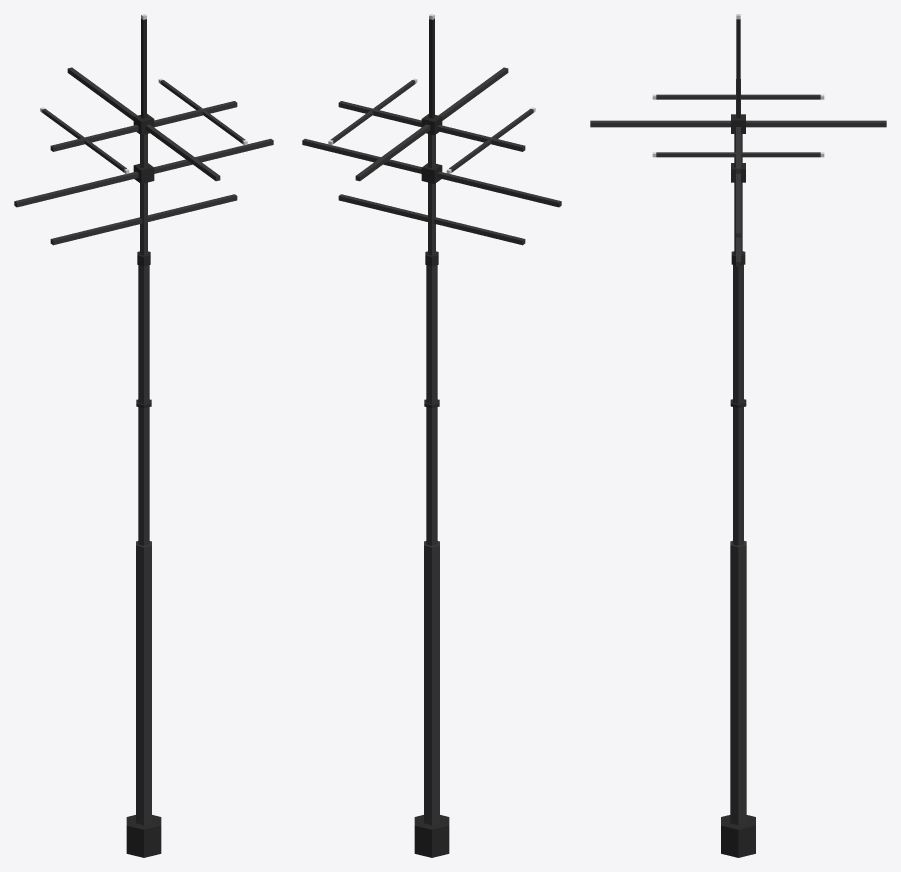
The model's file is SM_BuildingsDecor_18.fbx.
3 renders of one model, left to right at view 1: azimuth 30°, elevation 25°; view 2: azimuth 150°, elevation 25°; view 3: azimuth 270°, elevation 25°, orthographic.
Visible parts, largest first — view 1: SM_BuildingsDecor_18; view 2: SM_BuildingsDecor_18; view 3: SM_BuildingsDecor_18.
Part boxes in pixels (x1=…): SM_BuildingsDecor_18: x1=14, y1=14, x2=273, y2=857; SM_BuildingsDecor_18: x1=302, y1=14, x2=561, y2=857; SM_BuildingsDecor_18: x1=590, y1=14, x2=886, y2=857.
Size of the model in its own units: 1.15 by 3.58 by 1.15.
